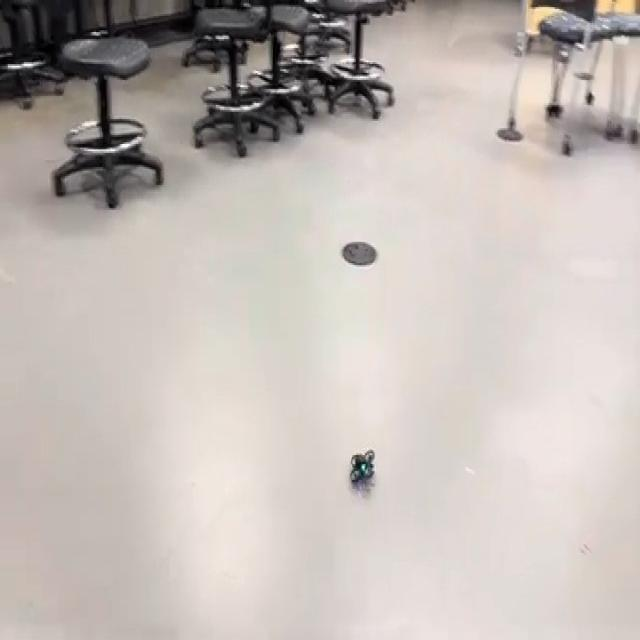drone: (338, 432, 383, 502)
